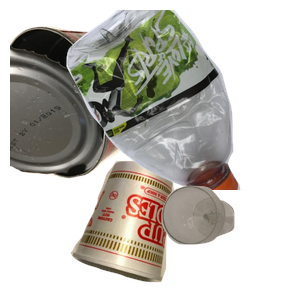glass: (159, 184, 300, 300)
metal: (10, 23, 193, 194)
plastic: (64, 10, 300, 190)
trash: (68, 158, 235, 300)
